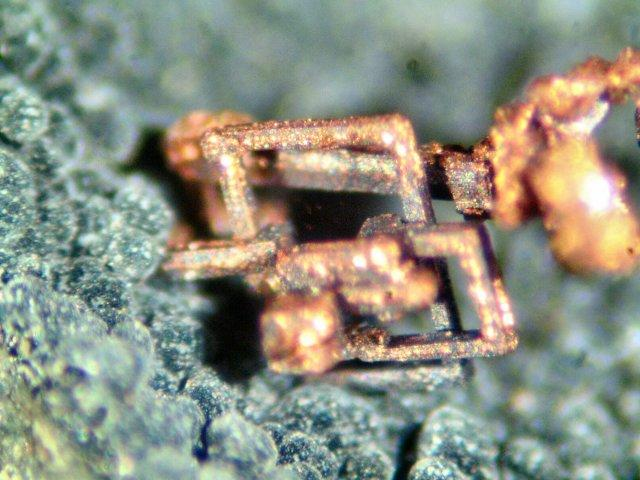copper: (163, 48, 640, 378)
